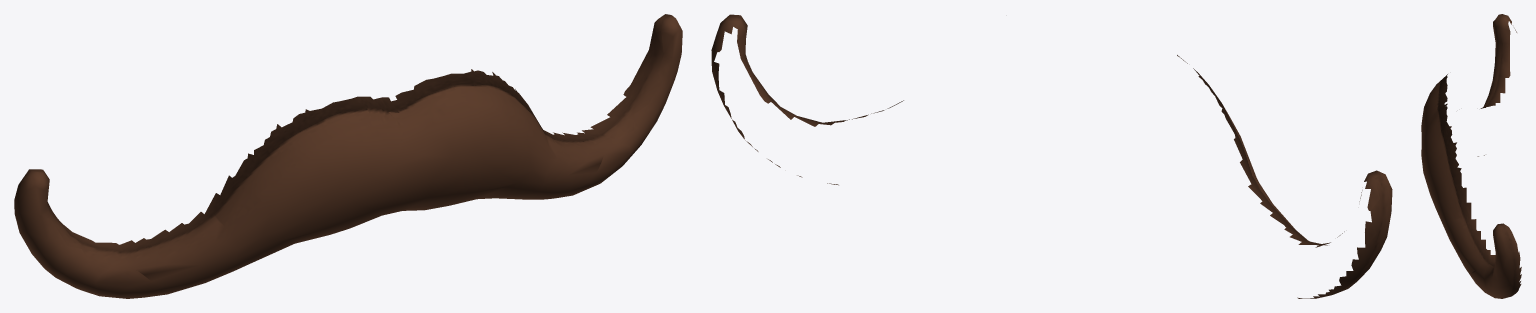
The model's file is mustache.glb.
The picture shows the model from 3 angles, left to right: view 1: azimuth 30°, elevation 25°; view 2: azimuth 150°, elevation 25°; view 3: azimuth 270°, elevation 25°; orthographic projection. The views are drawn at different scales.
Visible parts, largest first — view 1: mustache; view 2: mustache; view 3: mustache.
Part boxes in pixels (x1,y1,x2,y2): mustache: [14, 14, 682, 298]; mustache: [711, 14, 1392, 298]; mustache: [1421, 14, 1521, 298].
Bounding box in the file's own units: 0.2696 × 0.0694 × 0.052.
1 material, 1 textured.
